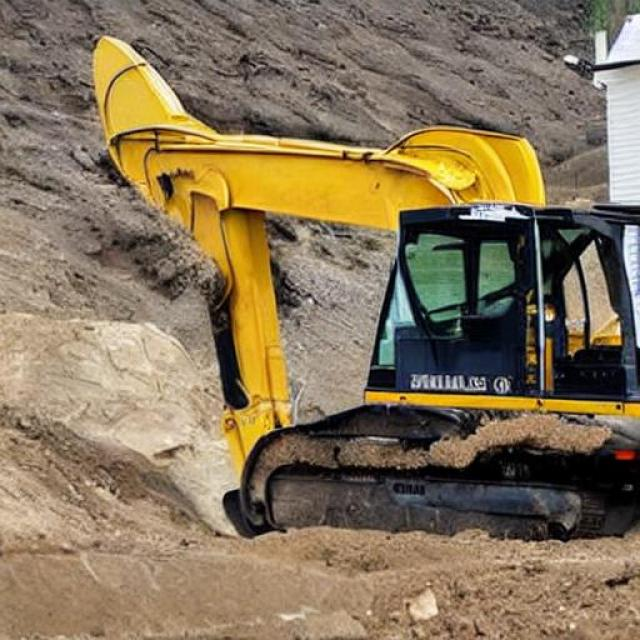excavator: (347, 166, 518, 343), (396, 133, 495, 188)
